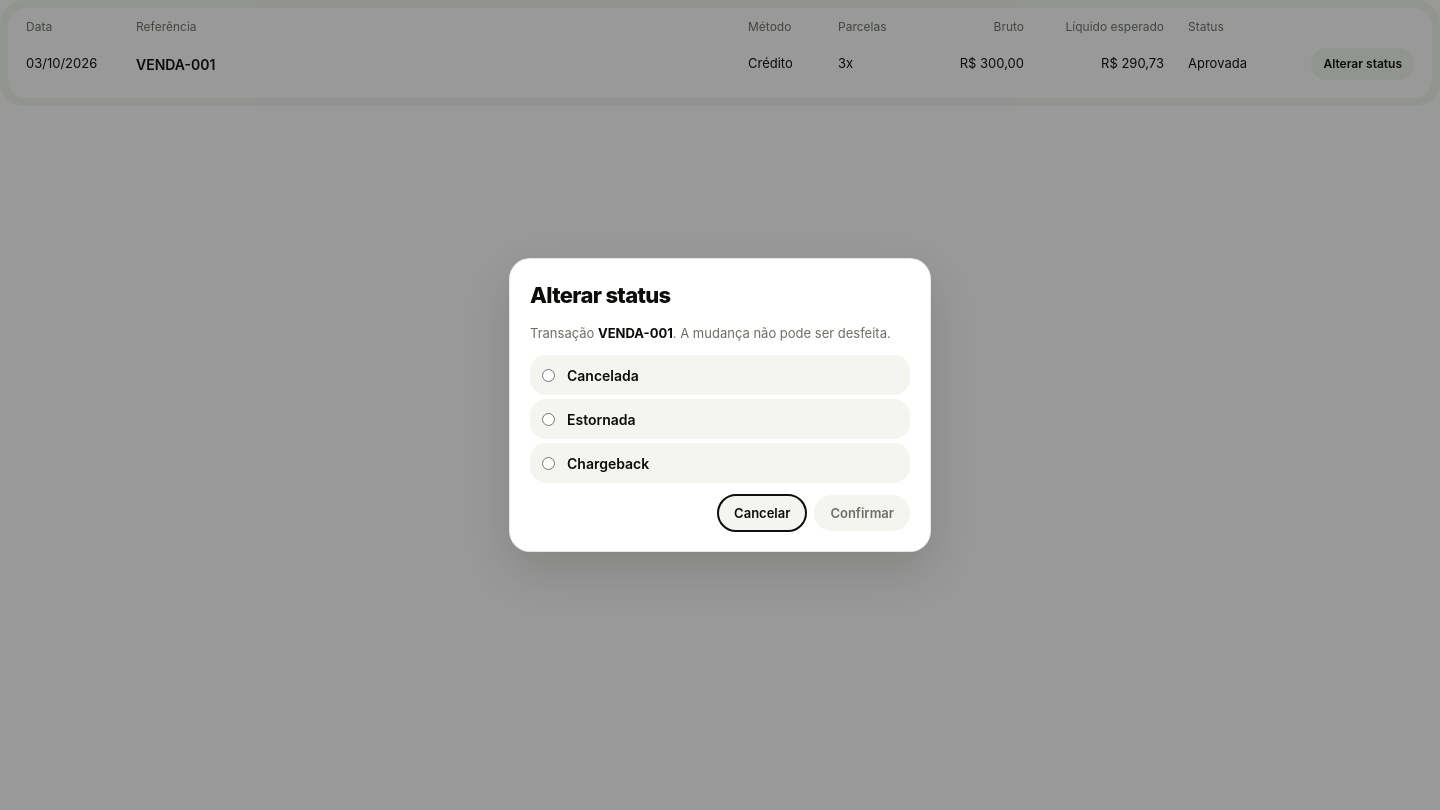
Test case: StatusDialog › 400 de transição inválida mantém o diálogo aberto com a mensagem e recarrega a lista (TXN-09)
The width and height of the screenshot is (1440, 810).
Expected: the table named "Transações" shows "Aprovada", top-left (1188, 55), bottom-right (1247, 71)
Click the radio button labelled "Cancelada" at (548, 375), box top-left (542, 369), bottom-right (555, 382)
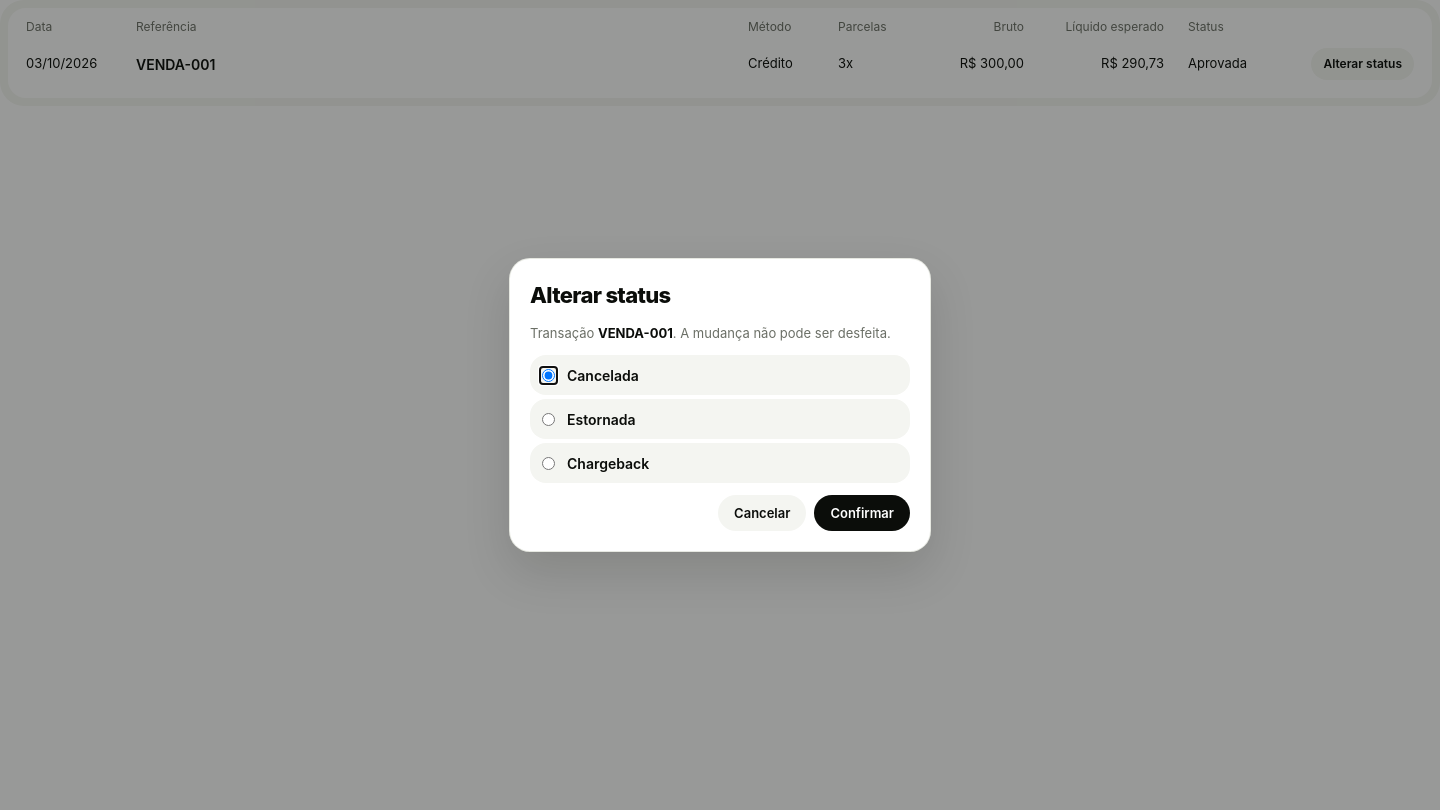
Click the button "Confirmar" at (862, 513), box top-left (814, 495), bottom-right (910, 531)
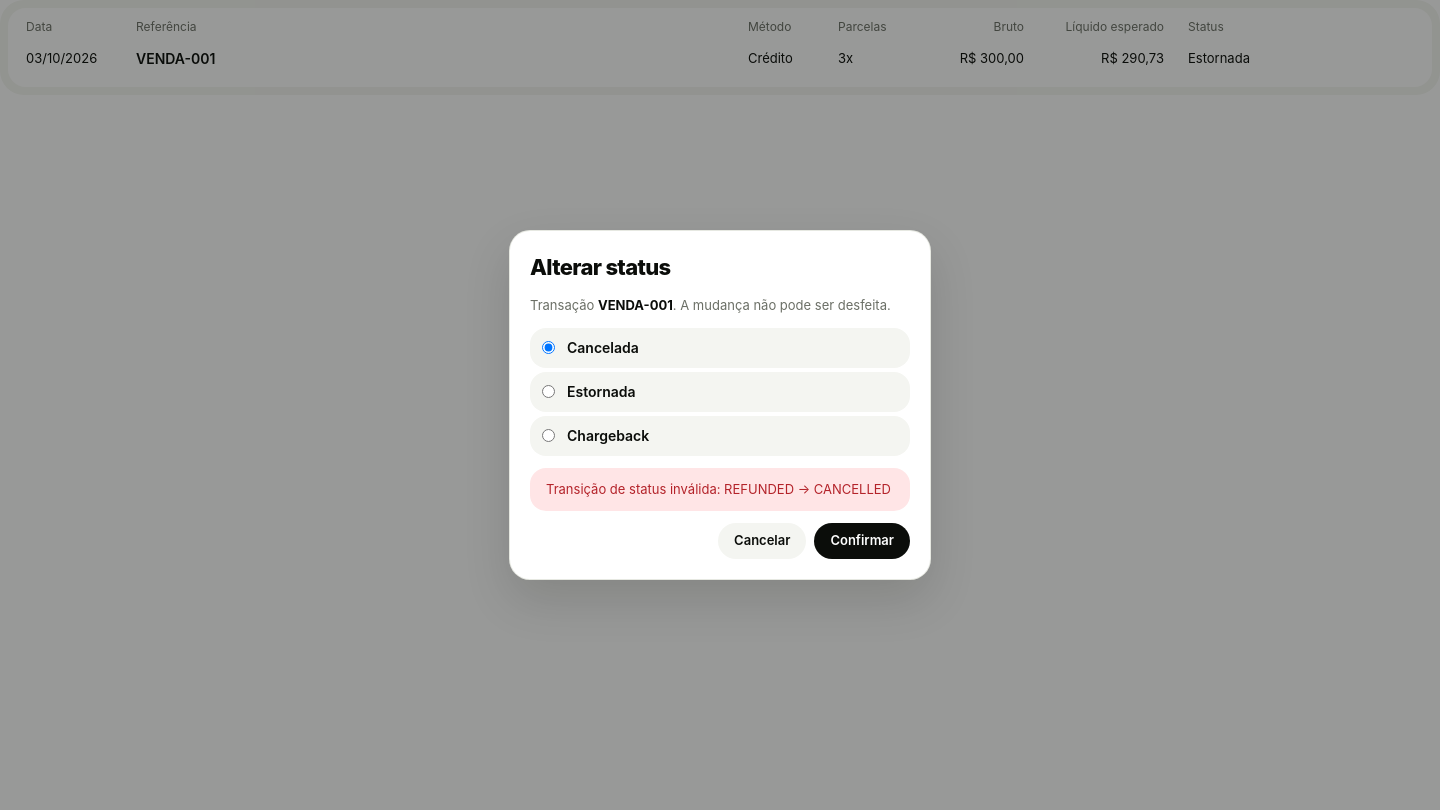
Now the radio button labelled "Cancelada" is checked, box top-left (542, 341), bottom-right (555, 354)
Now the message reads "Transição de status inválida: REFUNDED -> CANCELLED", box top-left (546, 480), bottom-right (891, 496)
Now the table named "Transações" shows "Estornada", box top-left (1188, 50), bottom-right (1250, 66)
